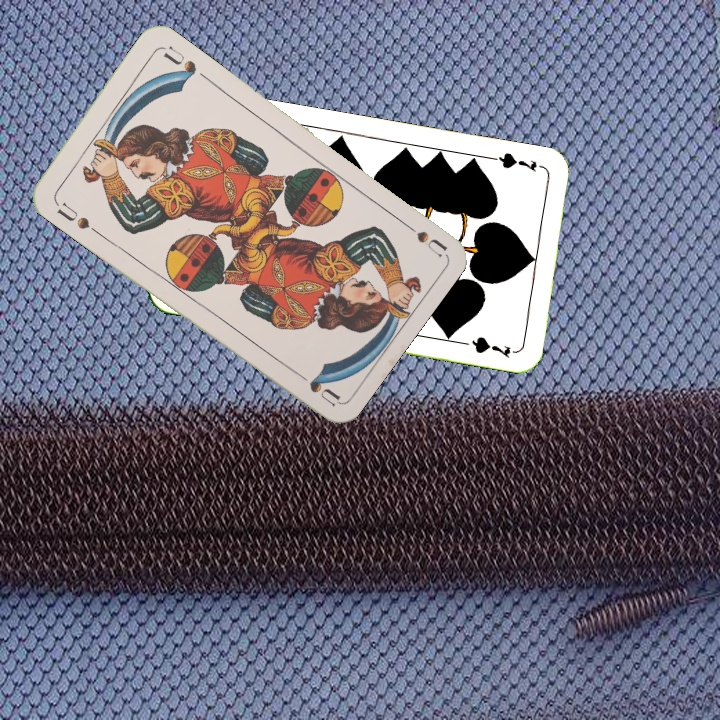G7: (489, 148, 539, 174)
SU: (395, 215, 448, 259), (52, 198, 93, 232)
